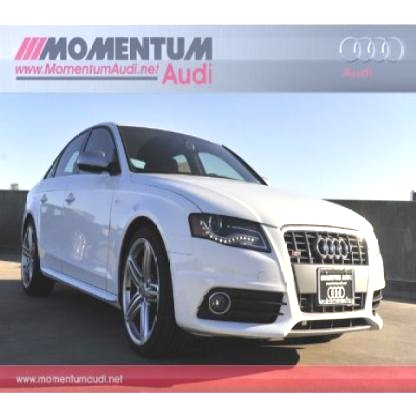Vehicle: (20, 120, 387, 354)
